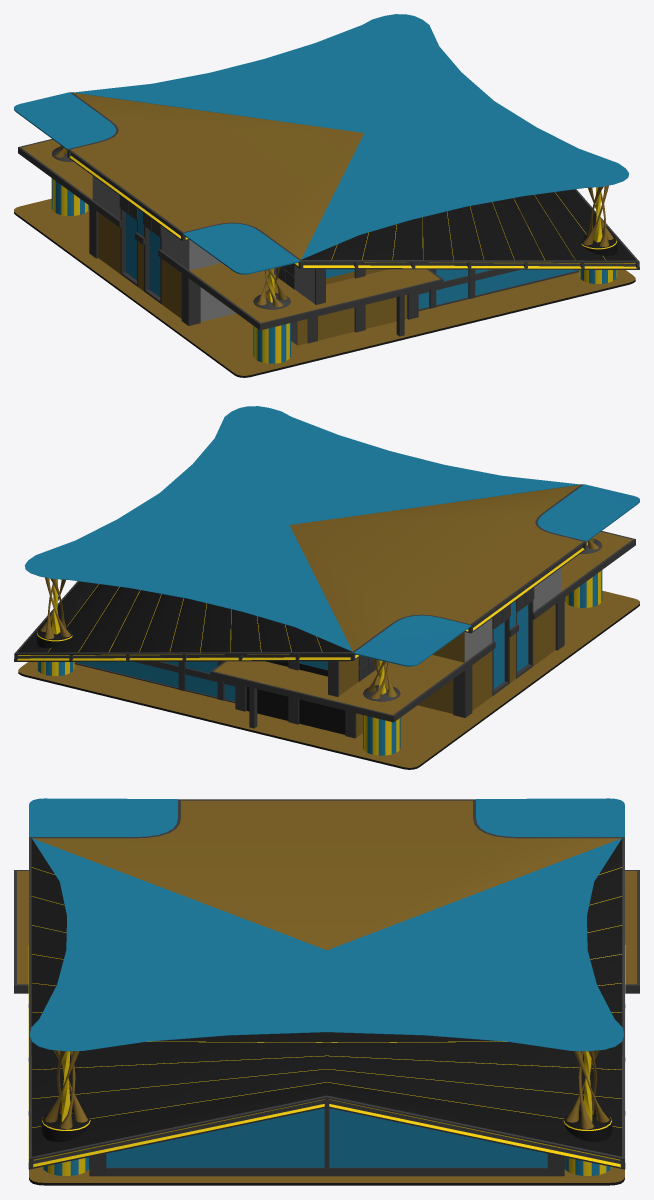
File: SM_MK10_Building_Middle_002.fbx
3 views of the same model, one above another, from view 1: azimuth 30°, elevation 25°; view 2: azimuth 150°, elevation 25°; view 3: azimuth 270°, elevation 25° (orthographic). The views are drawn at different scales.
Visible parts, largest first — view 1: SM_MK10_Building_Middle_002; view 2: SM_MK10_Building_Middle_002; view 3: SM_MK10_Building_Middle_002.
Part boxes in pixels (<box>): SM_MK10_Building_Middle_002: <box>14,14,639,377</box>; SM_MK10_Building_Middle_002: <box>14,406,639,769</box>; SM_MK10_Building_Middle_002: <box>14,798,639,1185</box>.
Bounding box in the file's own units: 2001 × 500 × 2100.
